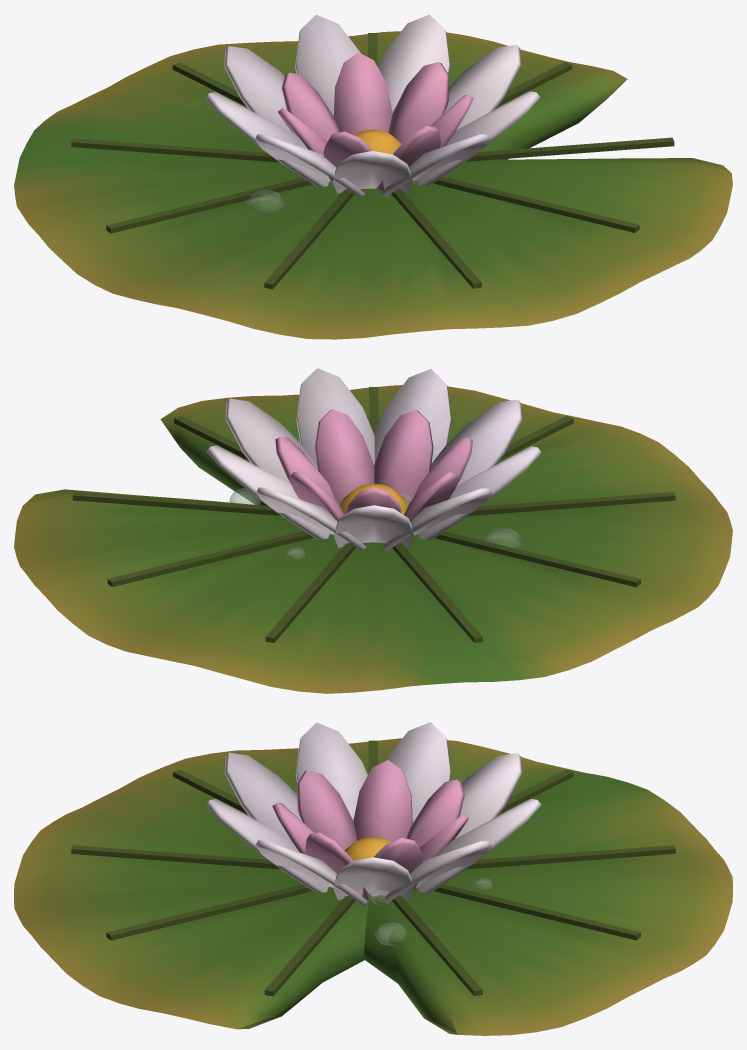
The model's file is mire_lily_pad_flower.glb.
3 renders of one model, top to bottom at view 1: azimuth 30°, elevation 25°; view 2: azimuth 150°, elevation 25°; view 3: azimuth 270°, elevation 25°, orthographic.
Parts seen in each view (by area): view 1: mire_lily_pad_flower; view 2: mire_lily_pad_flower; view 3: mire_lily_pad_flower.
Boxes of the visible parts, x1,y1,x2,y2 form: mire_lily_pad_flower: (14, 14, 732, 339); mire_lily_pad_flower: (14, 368, 732, 693); mire_lily_pad_flower: (14, 722, 732, 1035).
Bounding box in the file's own units: 5.27 × 1.05 × 5.4.
